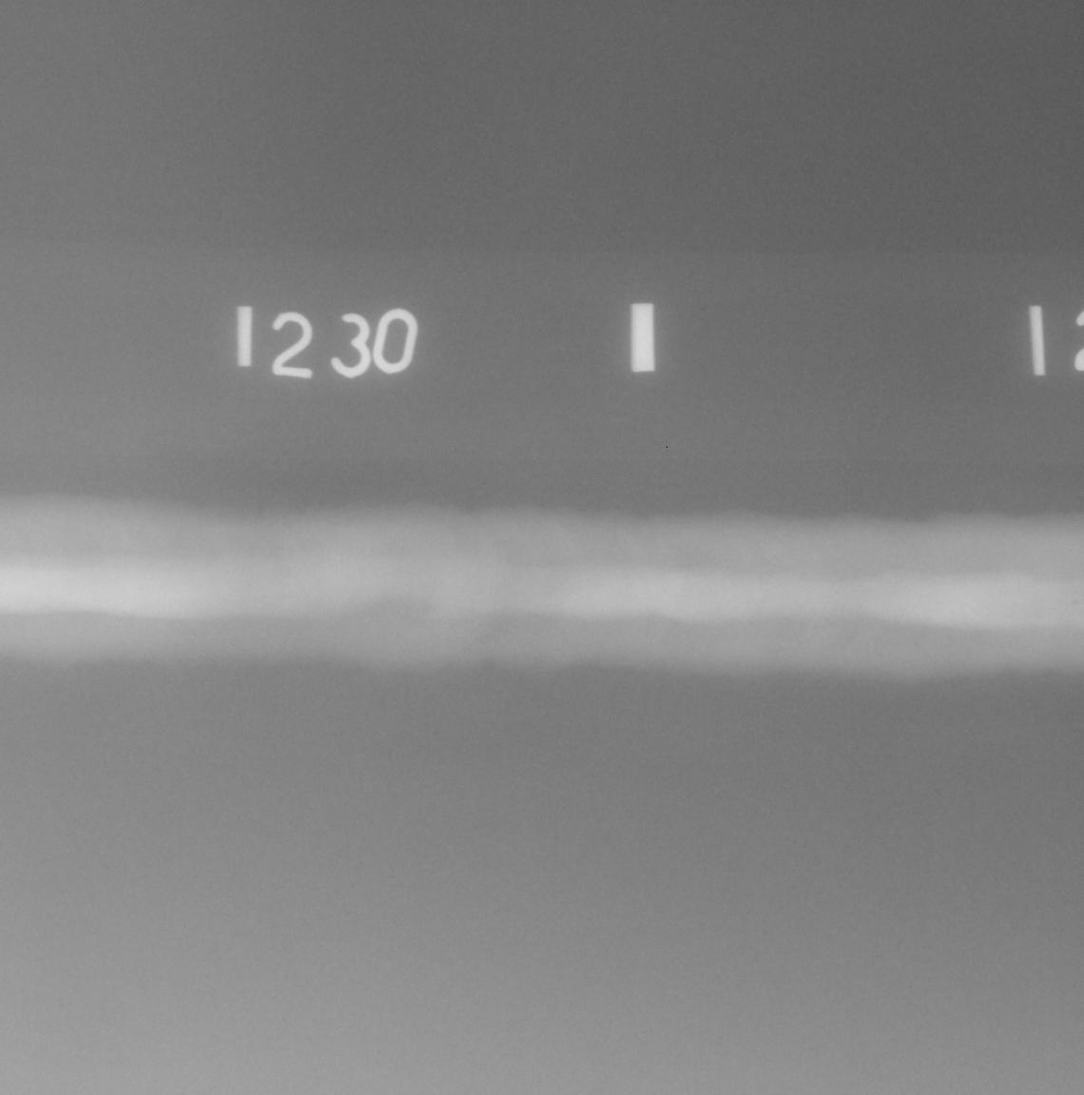Pore/Porosity: (1070, 598, 1081, 605)
